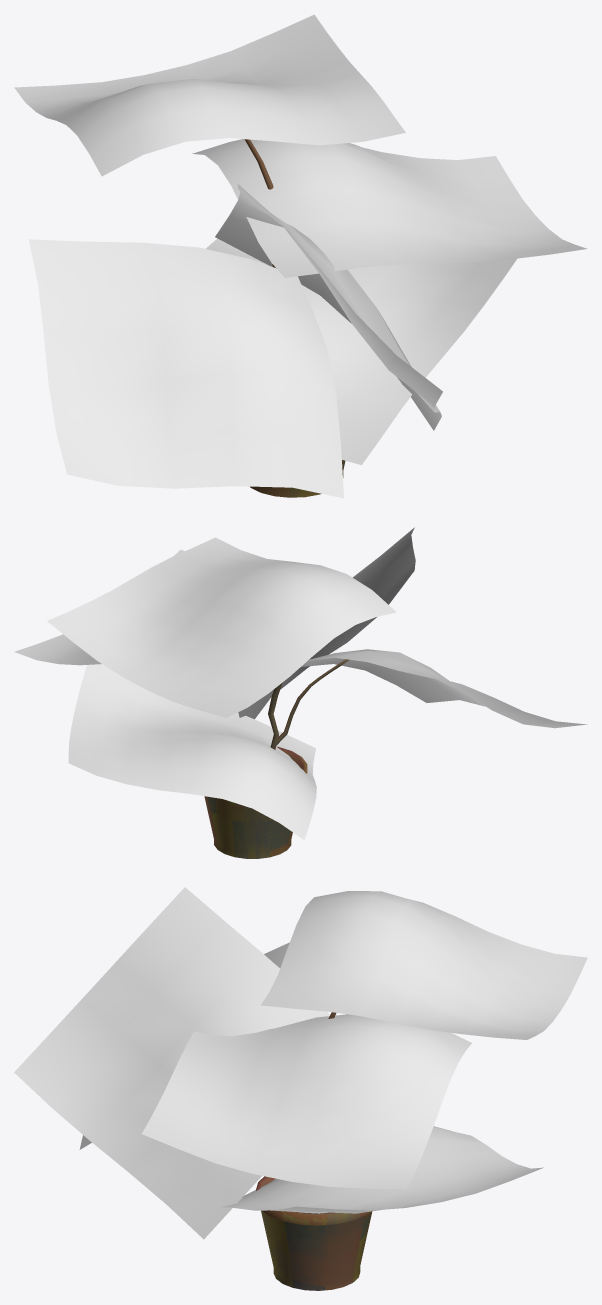
File: planttest.fbx
3 views of the same model, one above another, from view 1: azimuth 30°, elevation 25°; view 2: azimuth 150°, elevation 25°; view 3: azimuth 270°, elevation 25° (orthographic). The views are drawn at different scales.
Visible parts, largest first — view 1: Cylinder; view 2: Cylinder; view 3: Cylinder.
Part boxes in pixels (left/top/right/bottom): Cylinder: left=14, top=14, right=587, bottom=498; Cylinder: left=14, top=527, right=587, bottom=858; Cylinder: left=14, top=887, right=587, bottom=1290.
Size of the model in its own units: 426 by 269 by 420.
